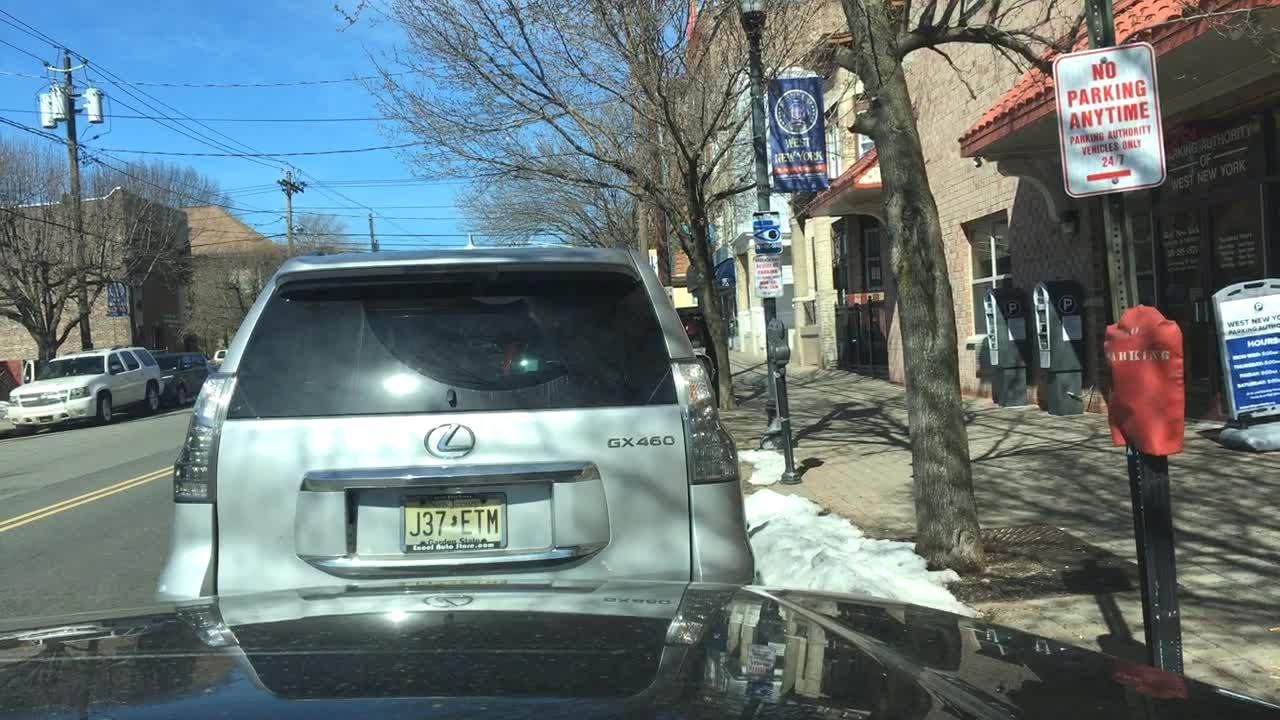lexus: (419, 419, 489, 462)
